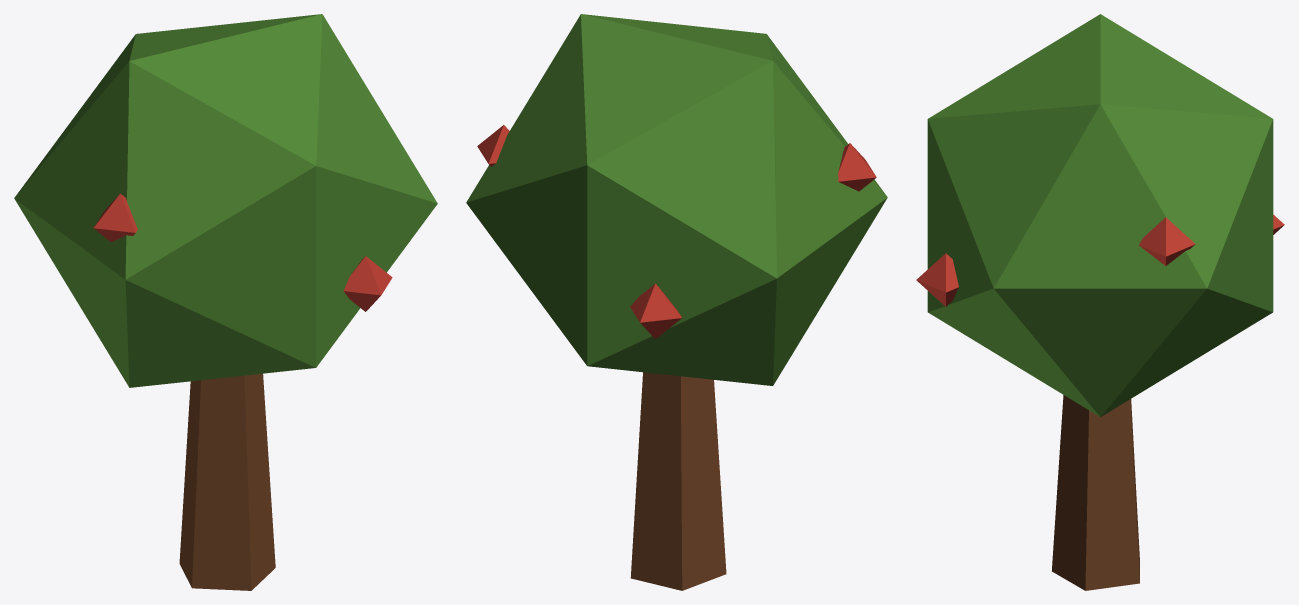
File: biome-orchard-appleTree.glb
3 views of the same model, side by side, from view 1: azimuth 30°, elevation 25°; view 2: azimuth 150°, elevation 25°; view 3: azimuth 270°, elevation 25° (orthographic). The views are drawn at different scales.
Size of the model in its own units: 1.36 by 2.09 by 1.36.
